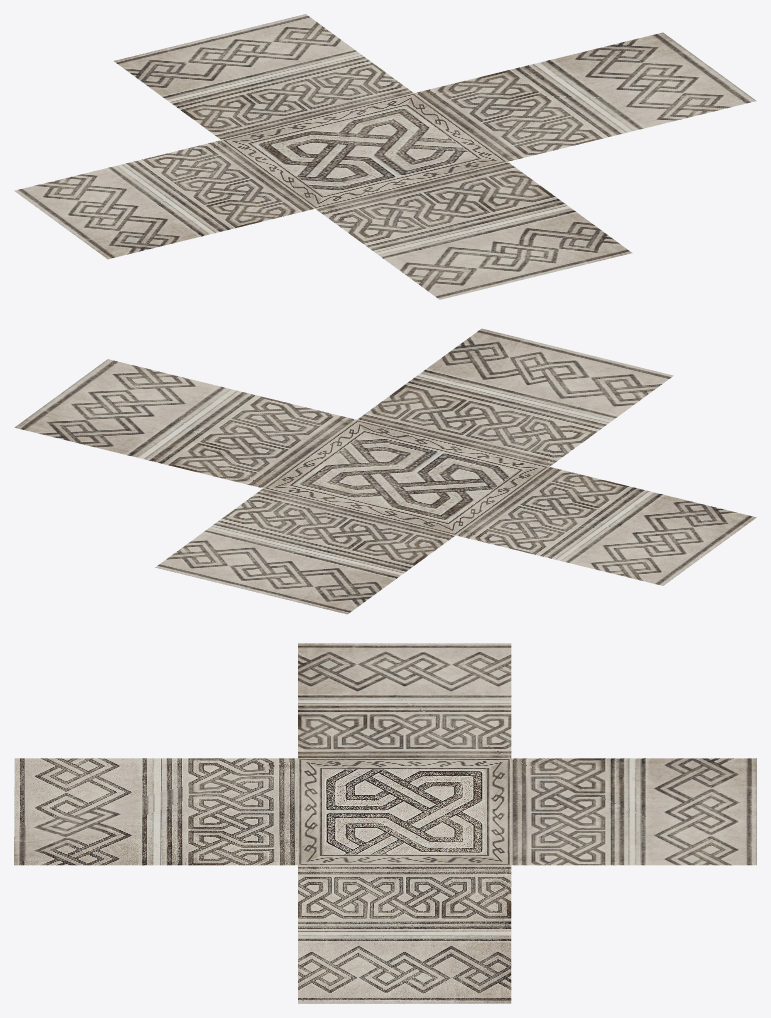
3 renders of one model, top to bottom at view 1: azimuth 30°, elevation 25°; view 2: azimuth 150°, elevation 25°; view 3: azimuth 270°, elevation 25°, orthographic. The views are drawn at different scales.
Visible parts, largest first — view 1: 복도 바닥; view 2: 복도 바닥; view 3: 복도 바닥.
Boxes of the visible parts, x1=… form: 복도 바닥: x1=14, y1=14, x2=756, y2=299; 복도 바닥: x1=14, y1=328, x2=756, y2=614; 복도 바닥: x1=14, y1=643, x2=756, y2=1003.
Bounding box in the file's own units: 905 × 4.83e-14 × 789.
